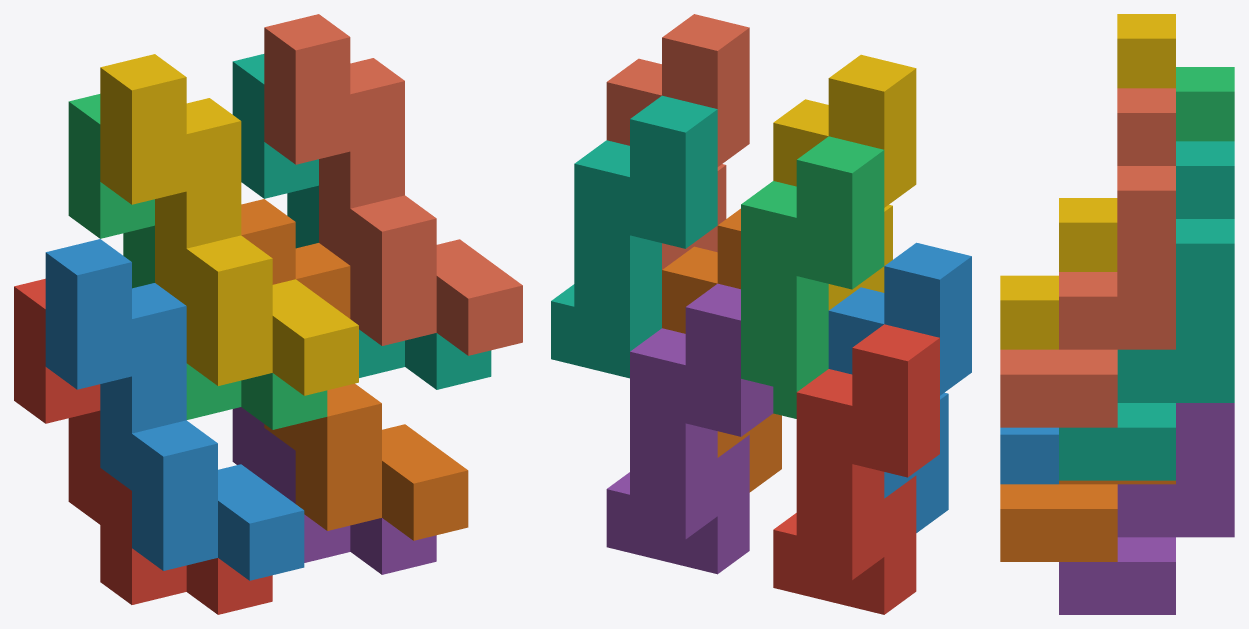
Rendered from tiling.obj.
The picture shows the model from 3 angles, left to right: view 1: azimuth 30°, elevation 25°; view 2: azimuth 150°, elevation 25°; view 3: azimuth 270°, elevation 25°; orthographic projection. The views are drawn at different scales.
Visible parts, largest first — view 1: copy_1_domain_2, copy_1_domain_4, copy_1_domain_8, copy_1_domain_6, copy_1_domain_1, copy_1_domain_3, copy_1_domain_7, copy_1_domain_5; view 2: copy_1_domain_1, copy_1_domain_5, copy_1_domain_7, copy_1_domain_3, copy_1_domain_2, copy_1_domain_4, copy_1_domain_8, copy_1_domain_6; view 3: copy_1_domain_8, copy_1_domain_7, copy_1_domain_5, copy_1_domain_4, copy_1_domain_6, copy_1_domain_3, copy_1_domain_2.
Part boxes in pixels (x1=…): copy_1_domain_2: x1=45, y1=239, x2=304, y2=580; copy_1_domain_4: x1=100, y1=54, x2=358, y2=395; copy_1_domain_8: x1=264, y1=14, x2=522, y2=355; copy_1_domain_6: x1=241, y1=199, x2=468, y2=540; copy_1_domain_1: x1=14, y1=278, x2=272, y2=614; copy_1_domain_3: x1=68, y1=94, x2=327, y2=429; copy_1_domain_7: x1=232, y1=54, x2=491, y2=389; copy_1_domain_5: x1=232, y1=407, x2=436, y2=574; copy_1_domain_1: x1=773, y1=324, x2=939, y2=614; copy_1_domain_5: x1=606, y1=283, x2=773, y2=574; copy_1_domain_7: x1=551, y1=95, x2=717, y2=378; copy_1_domain_3: x1=741, y1=136, x2=884, y2=418; copy_1_domain_2: x1=828, y1=242, x2=971, y2=532; copy_1_domain_4: x1=773, y1=54, x2=916, y2=310; copy_1_domain_8: x1=606, y1=14, x2=749, y2=269; copy_1_domain_6: x1=662, y1=208, x2=781, y2=492; copy_1_domain_8: x1=1000, y1=88, x2=1175, y2=427; copy_1_domain_7: x1=1059, y1=141, x2=1234, y2=480; copy_1_domain_5: x1=1059, y1=403, x2=1234, y2=614; copy_1_domain_4: x1=1000, y1=14, x2=1175, y2=349; copy_1_domain_6: x1=1000, y1=480, x2=1175, y2=561; copy_1_domain_3: x1=1176, y1=67, x2=1234, y2=141; copy_1_domain_2: x1=1000, y1=427, x2=1058, y2=484.
Size of the model in its own units: 7 by 9 by 4.
